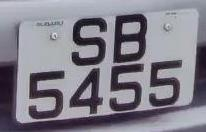4: (65, 66, 109, 118)
5: (19, 65, 69, 122), (142, 54, 187, 113), (106, 61, 147, 114)
B: (111, 9, 151, 65)
S: (60, 11, 114, 71)
